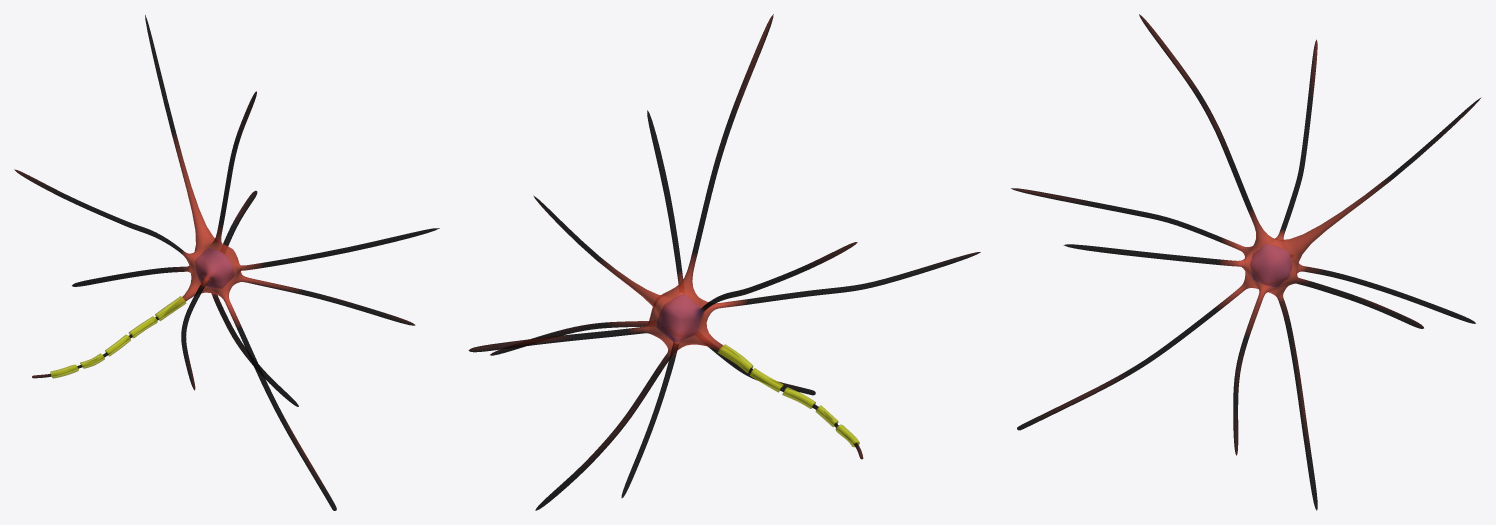
Rendered from neuron-v1.glb.
3 renders of one model, left to right at view 1: azimuth 30°, elevation 25°; view 2: azimuth 150°, elevation 25°; view 3: azimuth 270°, elevation 25°, orthographic. The views are drawn at different scales.
Visible parts, largest first — view 1: Neuron 021, Myelin Sheath, Neuron00; view 2: Neuron 021, Myelin Sheath, Neuron00; view 3: Neuron 021, Neuron00.
Part boxes in pixels (box(x1,y1,x2,y2)): Neuron 021: box(14, 15, 439, 510); Myelin Sheath: box(50, 296, 186, 378); Neuron00: box(195, 248, 233, 288); Neuron 021: box(468, 14, 980, 510); Myelin Sheath: box(717, 344, 859, 447); Neuron00: box(656, 294, 702, 342); Neuron 021: box(1011, 14, 1481, 510); Neuron00: box(1250, 244, 1291, 286).
Size of the model in its own units: 6.46 by 6.94 by 6.87.
